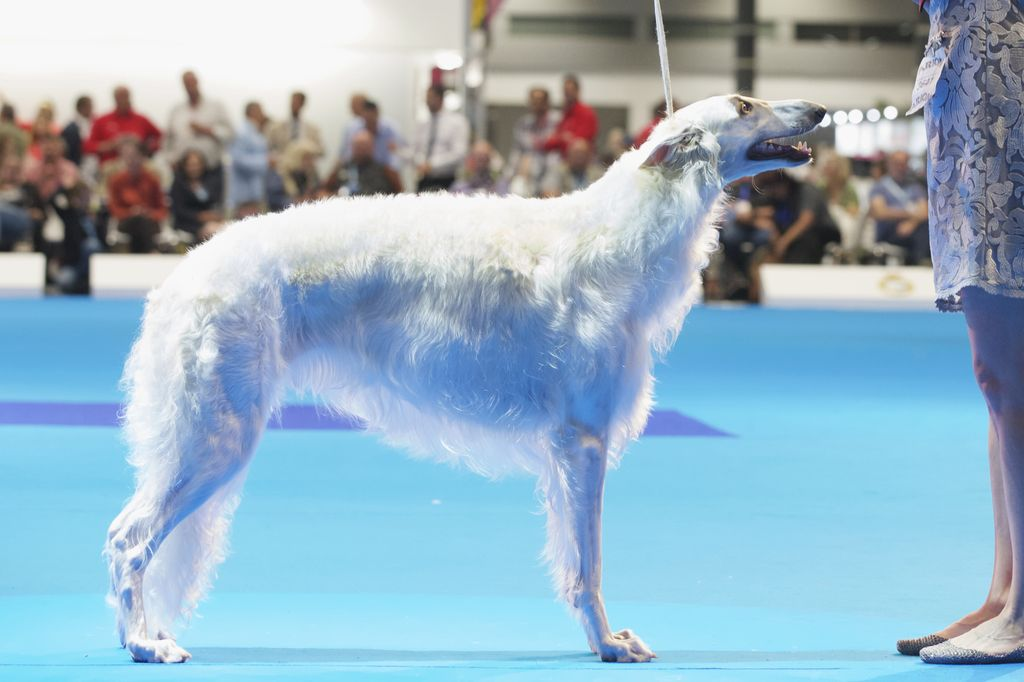borzoi: (99, 92, 840, 658)
